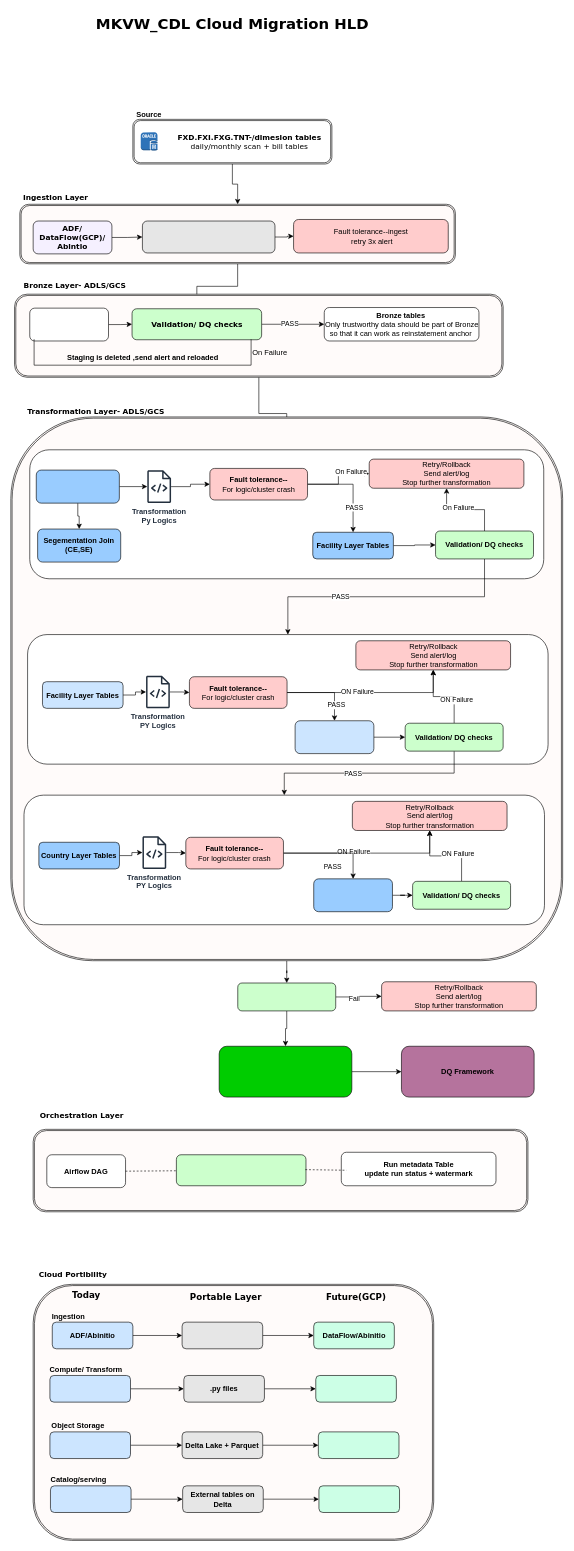
The diagram is 574 pixels wide and 1551 high, and some of its shapes have lost their labels. Each missing label, with the box of its shape:
Account Layers Table: (36, 469, 119, 503)
ADLS GEN2: (49, 1431, 131, 1459)
ALL SUCCESS Send alert: (219, 1046, 352, 1097)
BigQuery external tables: (318, 1485, 400, 1512)
Country Layers Table: (294, 720, 374, 754)
Cross Layer DQ checks: (237, 982, 336, 1011)
Databricks Hive metastore: (50, 1485, 131, 1512)
Databricks on Azure: (49, 1375, 131, 1402)
Dataproc: (315, 1375, 396, 1402)
Global Layers Table: (313, 878, 392, 912)
Google cloud storage: (318, 1431, 399, 1459)
Pipeline control table (Watermark store,config,run state,audit,log): (142, 220, 275, 253)
Reinstatment workflow Drop partition-> rerun DAG: (176, 1154, 306, 1186)
Spark JDBC connector: (181, 1322, 263, 1349)
Staging raw tables: (29, 308, 108, 341)
